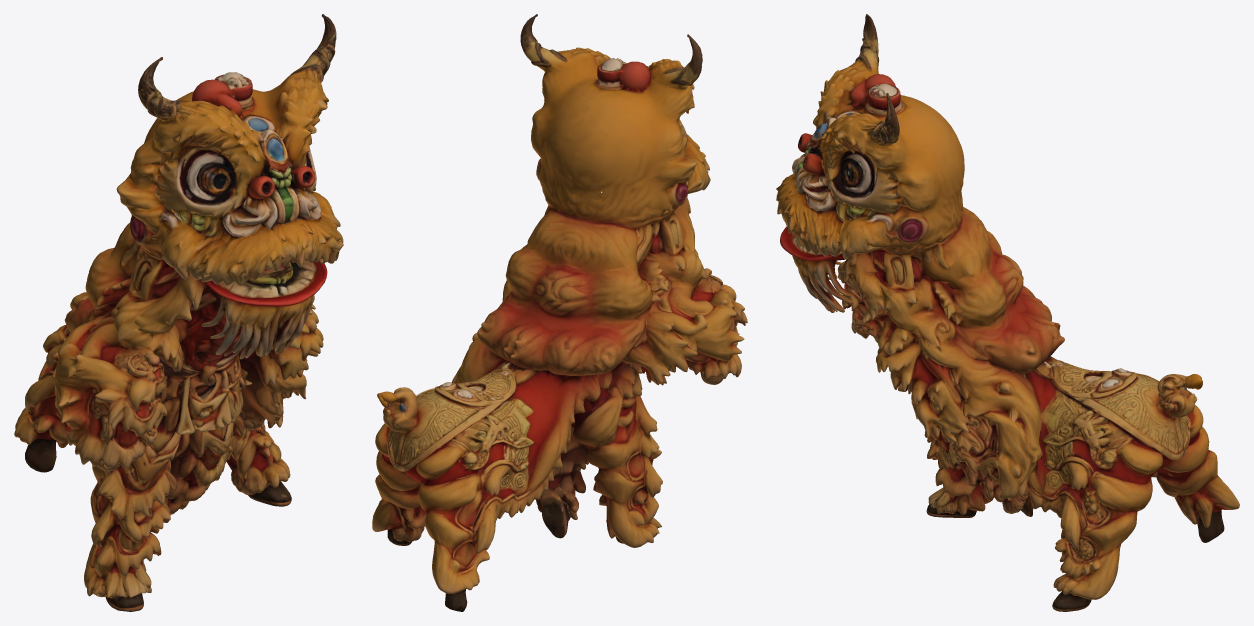
File: P09_10Dragon_Parade_Troupe-v1.glb
3 renders of one model, left to right at view 1: azimuth 30°, elevation 25°; view 2: azimuth 150°, elevation 25°; view 3: azimuth 270°, elevation 25°, orthographic. The views are drawn at different scales.
Parts seen in each view (by area): view 1: tripo_node_8c13fd8e-3350-48eb-afce-da8cd603a541; view 2: tripo_node_8c13fd8e-3350-48eb-afce-da8cd603a541; view 3: tripo_node_8c13fd8e-3350-48eb-afce-da8cd603a541.
Boxes of the visible parts, left/top/right/bottom form: tripo_node_8c13fd8e-3350-48eb-afce-da8cd603a541: left=14, top=14, right=343, bottom=611; tripo_node_8c13fd8e-3350-48eb-afce-da8cd603a541: left=372, top=14, right=747, bottom=611; tripo_node_8c13fd8e-3350-48eb-afce-da8cd603a541: left=776, top=14, right=1239, bottom=611.
Size of the model in its own units: 0.5883 by 0.9781 by 0.8263.
1 material, 1 textured.
